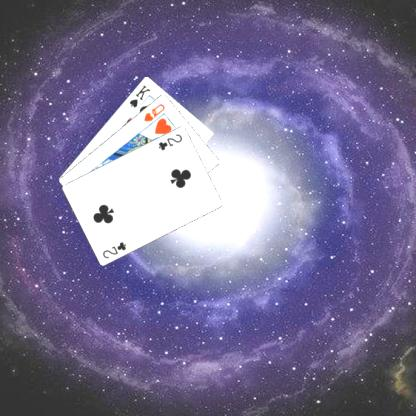2C: (156, 131, 184, 152), (99, 239, 128, 259)
KS: (126, 82, 152, 108)
QH: (141, 100, 166, 122)
